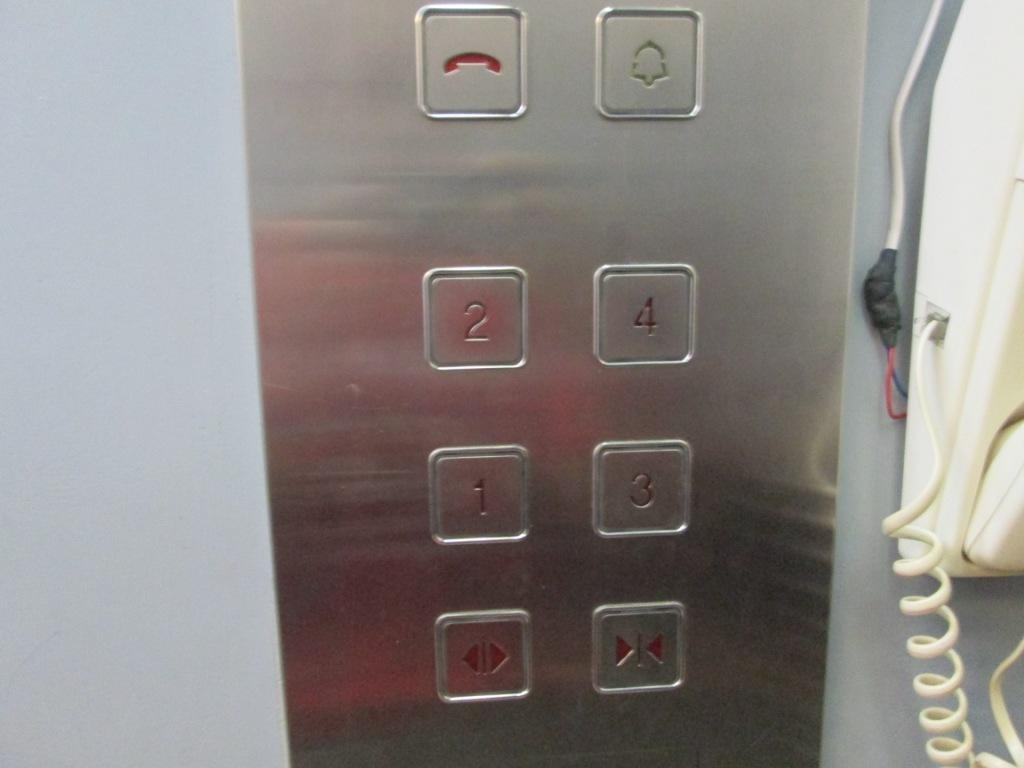1: (422, 441, 539, 553)
2: (419, 261, 534, 379)
3: (586, 435, 696, 545)
4: (591, 259, 701, 366)
alarm: (588, 1, 711, 125)
call: (411, 1, 530, 123)
close: (585, 594, 691, 699)
open: (429, 607, 542, 707)
